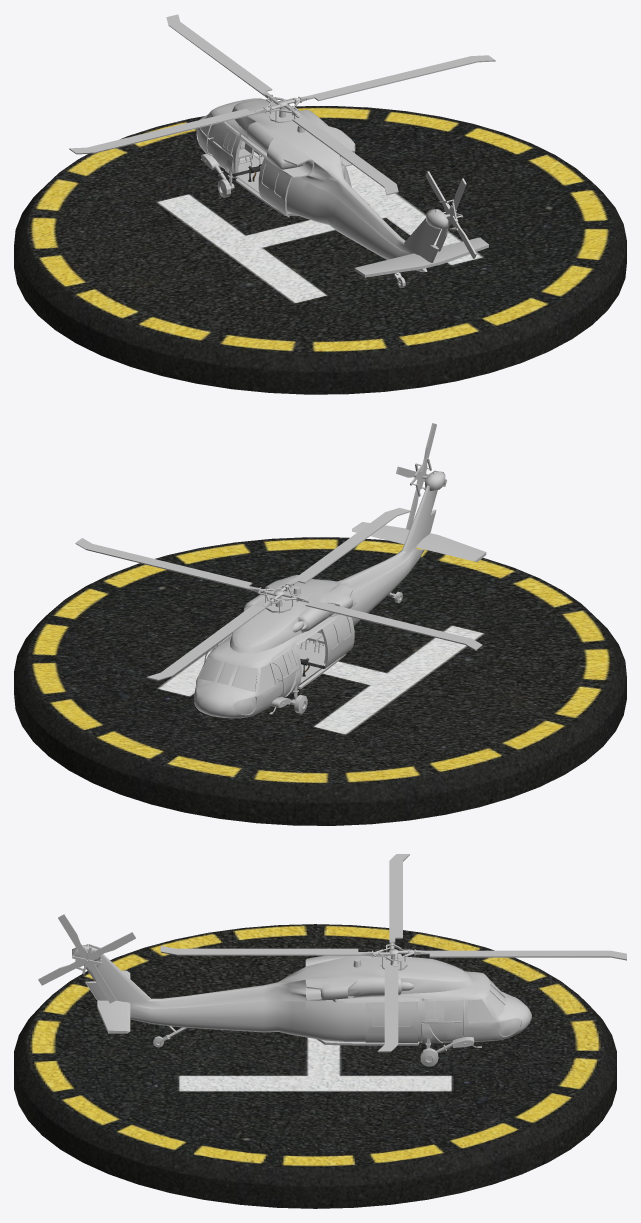
The picture shows the model from 3 angles, top to bottom: view 1: azimuth 30°, elevation 25°; view 2: azimuth 150°, elevation 25°; view 3: azimuth 270°, elevation 25°; orthographic projection.
Parts seen in each view (by area): view 1: Cylinder018, Object032_18 - Default_0, Object021_18 - Default_0, Object028_18 - Default_0, Object029_18 - Default_0, rear_rotors002; view 2: Cylinder018, Object032_18 - Default_0, Object021_18 - Default_0, Object028_18 - Default_0, Object029_18 - Default_0, rear_rotors002; view 3: Cylinder018, Object032_18 - Default_0, Object021_18 - Default_0, Object029_18 - Default_0, Object028_18 - Default_0, rear_rotors002.
Boxes of the visible parts, x1,y1,x2,y2 form: Cylinder018: (14,106,626,394); Object032_18 - Default_0: (196,98,441,271); Object021_18 - Default_0: (69,14,495,195); Object028_18 - Default_0: (200,113,488,288); Object029_18 - Default_0: (196,121,297,217); rear_rotors002: (425,171,476,258); Cylinder018: (14,537,626,825); Object032_18 - Default_0: (194,485,437,718); Object021_18 - Default_0: (75,508,482,680); Object028_18 - Default_0: (198,470,486,714); Object029_18 - Default_0: (194,614,354,714); rear_rotors002: (396,423,446,530); Cylinder018: (14,924,616,1208); Object032_18 - Default_0: (84,954,531,1042); Object021_18 - Default_0: (160,854,626,1052); Object029_18 - Default_0: (317,982,521,1045); Object028_18 - Default_0: (72,944,505,1066); rear_rotors002: (38,914,135,1003).
Bounding box in the file's own units: 1038 × 329 × 1053.
